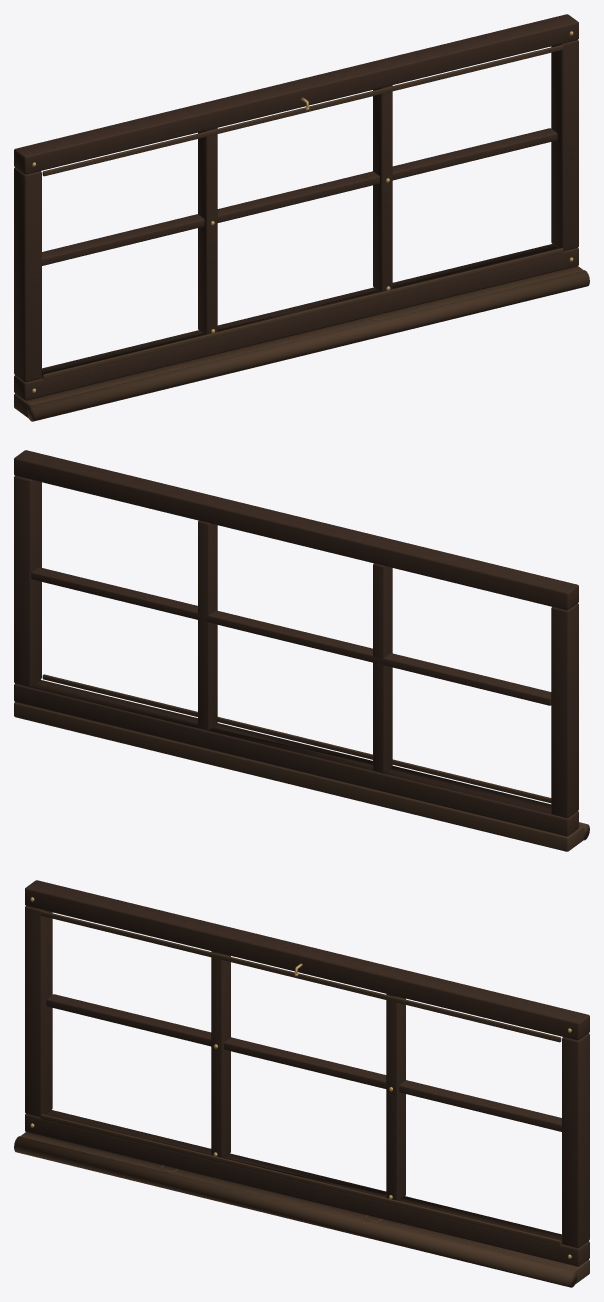
The model's file is trumua-cafe-window.glb.
3 views of the same model, one above another, from view 1: azimuth 30°, elevation 25°; view 2: azimuth 150°, elevation 25°; view 3: azimuth 330°, elevation 25° (orthographic).
Visible parts, largest first — view 1: trumua-cafe-window; view 2: trumua-cafe-window; view 3: trumua-cafe-window.
Boxes of the visible parts, box(x1,y1,x2,y2) form: trumua-cafe-window: box(14, 14, 589, 421); trumua-cafe-window: box(14, 450, 589, 851); trumua-cafe-window: box(14, 880, 589, 1287).
Size of the model in its own units: 3.8 by 1.7 by 0.26.
1 material, 1 textured.
